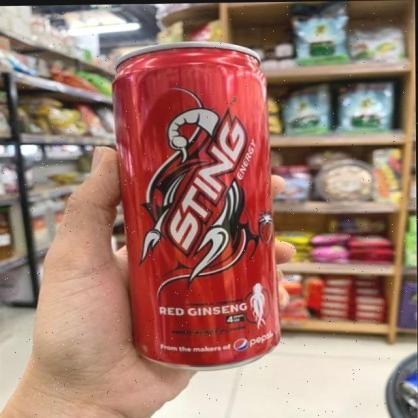can: (112, 40, 289, 372)
